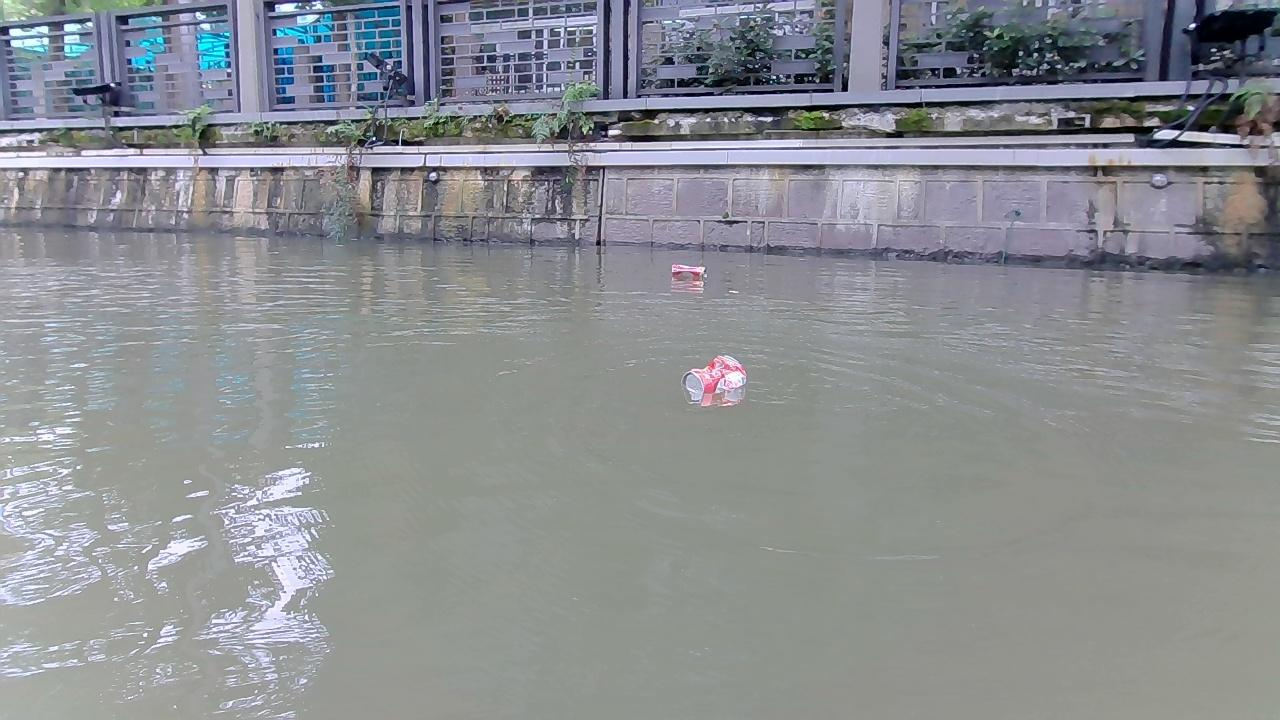bottle: (687, 352, 745, 401), (669, 261, 708, 279)
